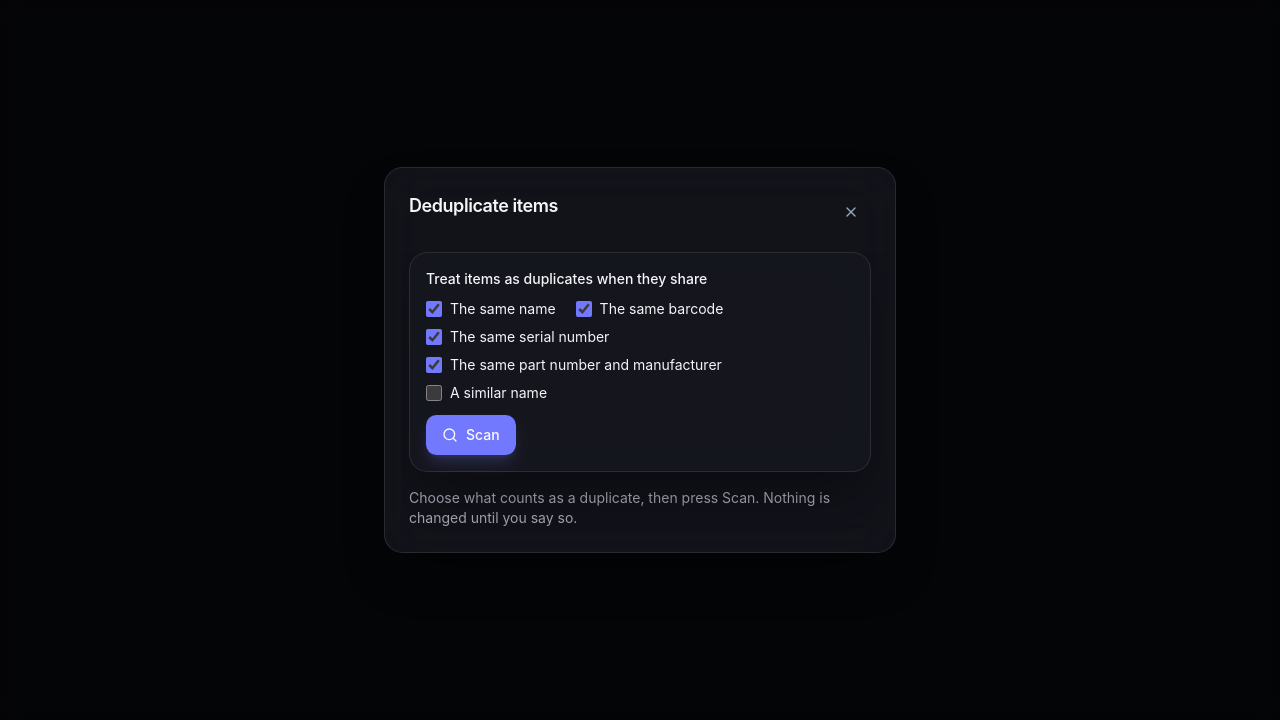
DeduplicateItemsDialog › replaces a merged card’s controls with what happened, so it cannot be merged twice
The image size is (1280, 720).
Click the button with test id "dedupe-scan". click: (471, 435)
box: [426,415,516,455]
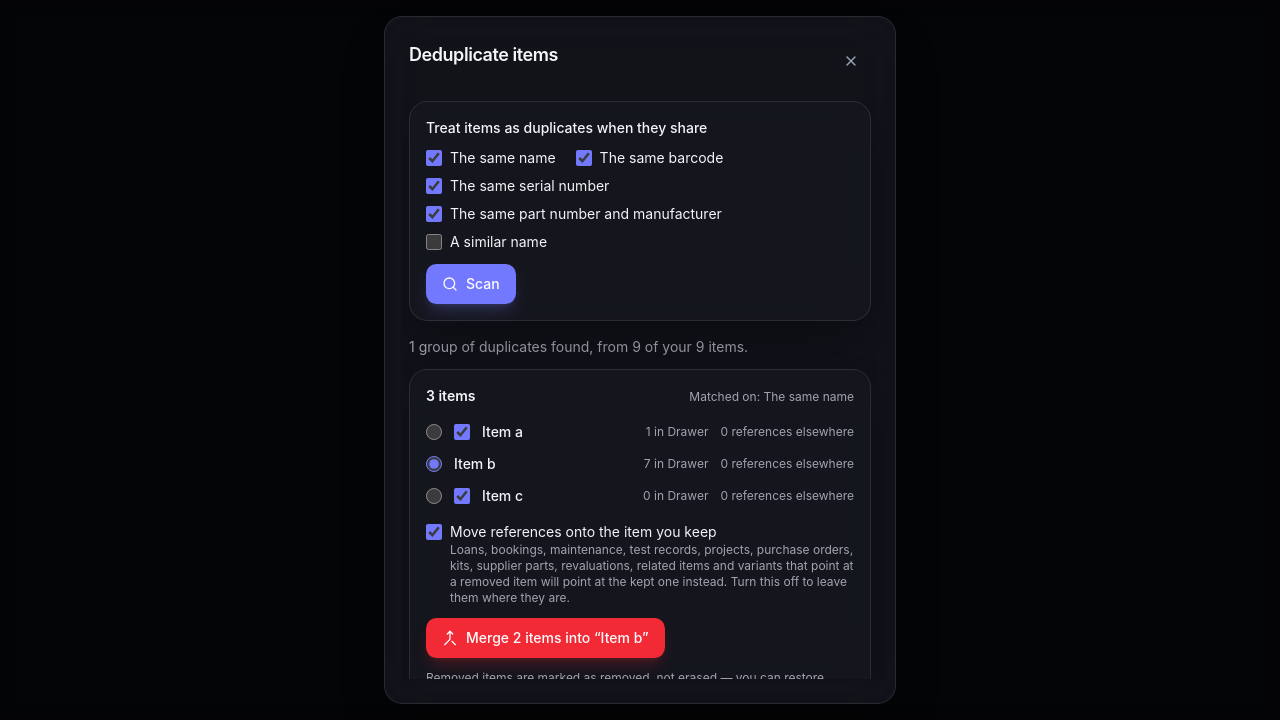
Click the button with test id "dedupe-merge". click: (545, 638)
box: [426,618,665,658]
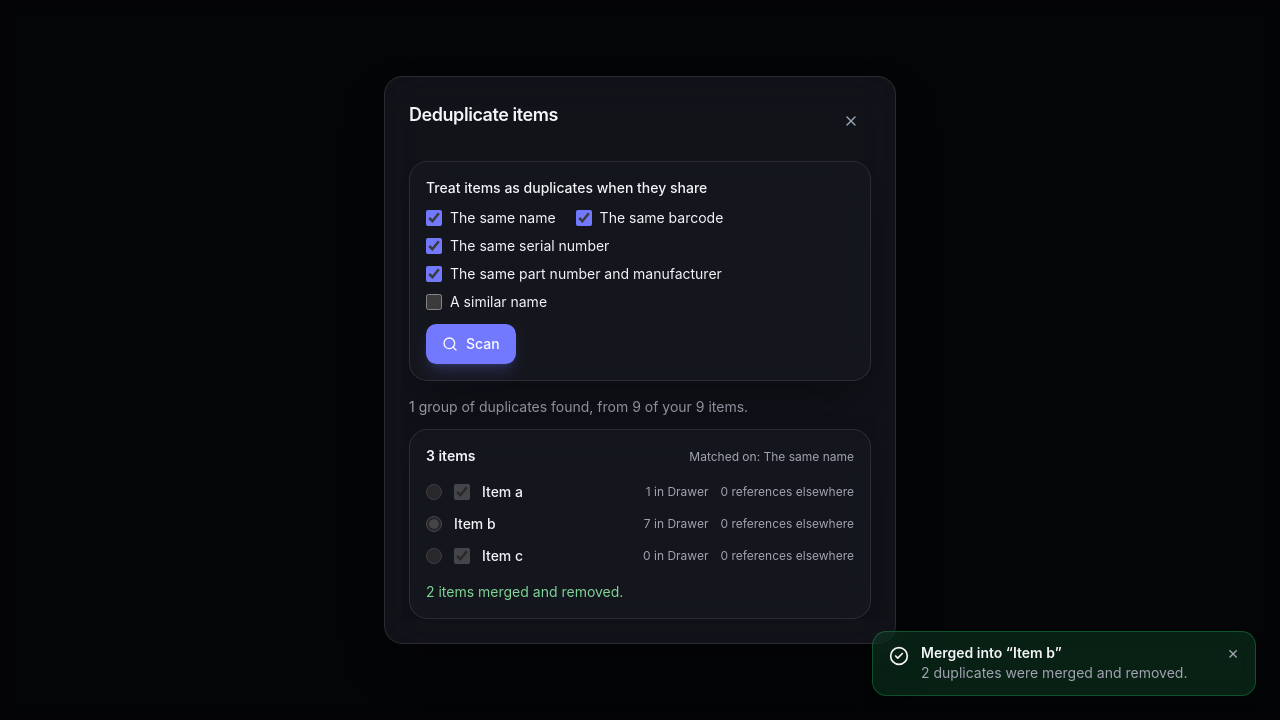
Now the element with test id "dedupe-group-outcome" reads "2 items merged and removed.", box [426,583,623,600]
Now the button with test id "dedupe-merge" is gone
